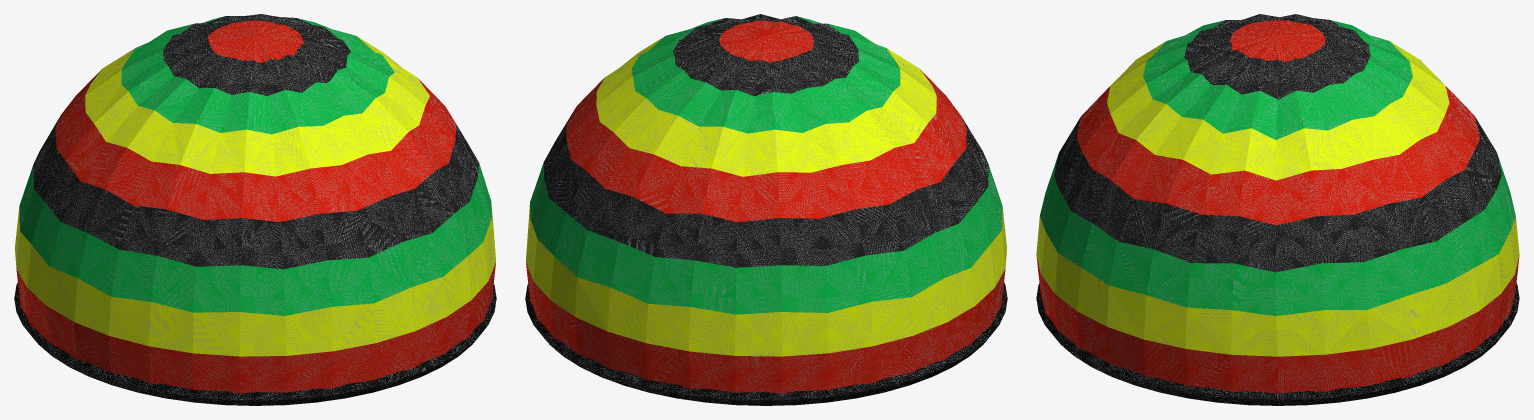
Rendered from rasta.dae.
The picture shows the model from 3 angles, left to right: view 1: azimuth 30°, elevation 25°; view 2: azimuth 150°, elevation 25°; view 3: azimuth 270°, elevation 25°; orthographic projection.
Visible parts, largest first — view 1: skpBDD2 (×10); view 2: skpBDD2 (×10); view 3: skpBDD2 (×10).
Boxes of the visible parts, box(x1,y1,x2,y2) form: skpBDD2 (×10): box(14, 14, 496, 405); skpBDD2 (×10): box(525, 14, 1007, 405); skpBDD2 (×10): box(1036, 14, 1519, 405).
Size of the model in its own units: 78.74 by 78.74 by 50.2.
